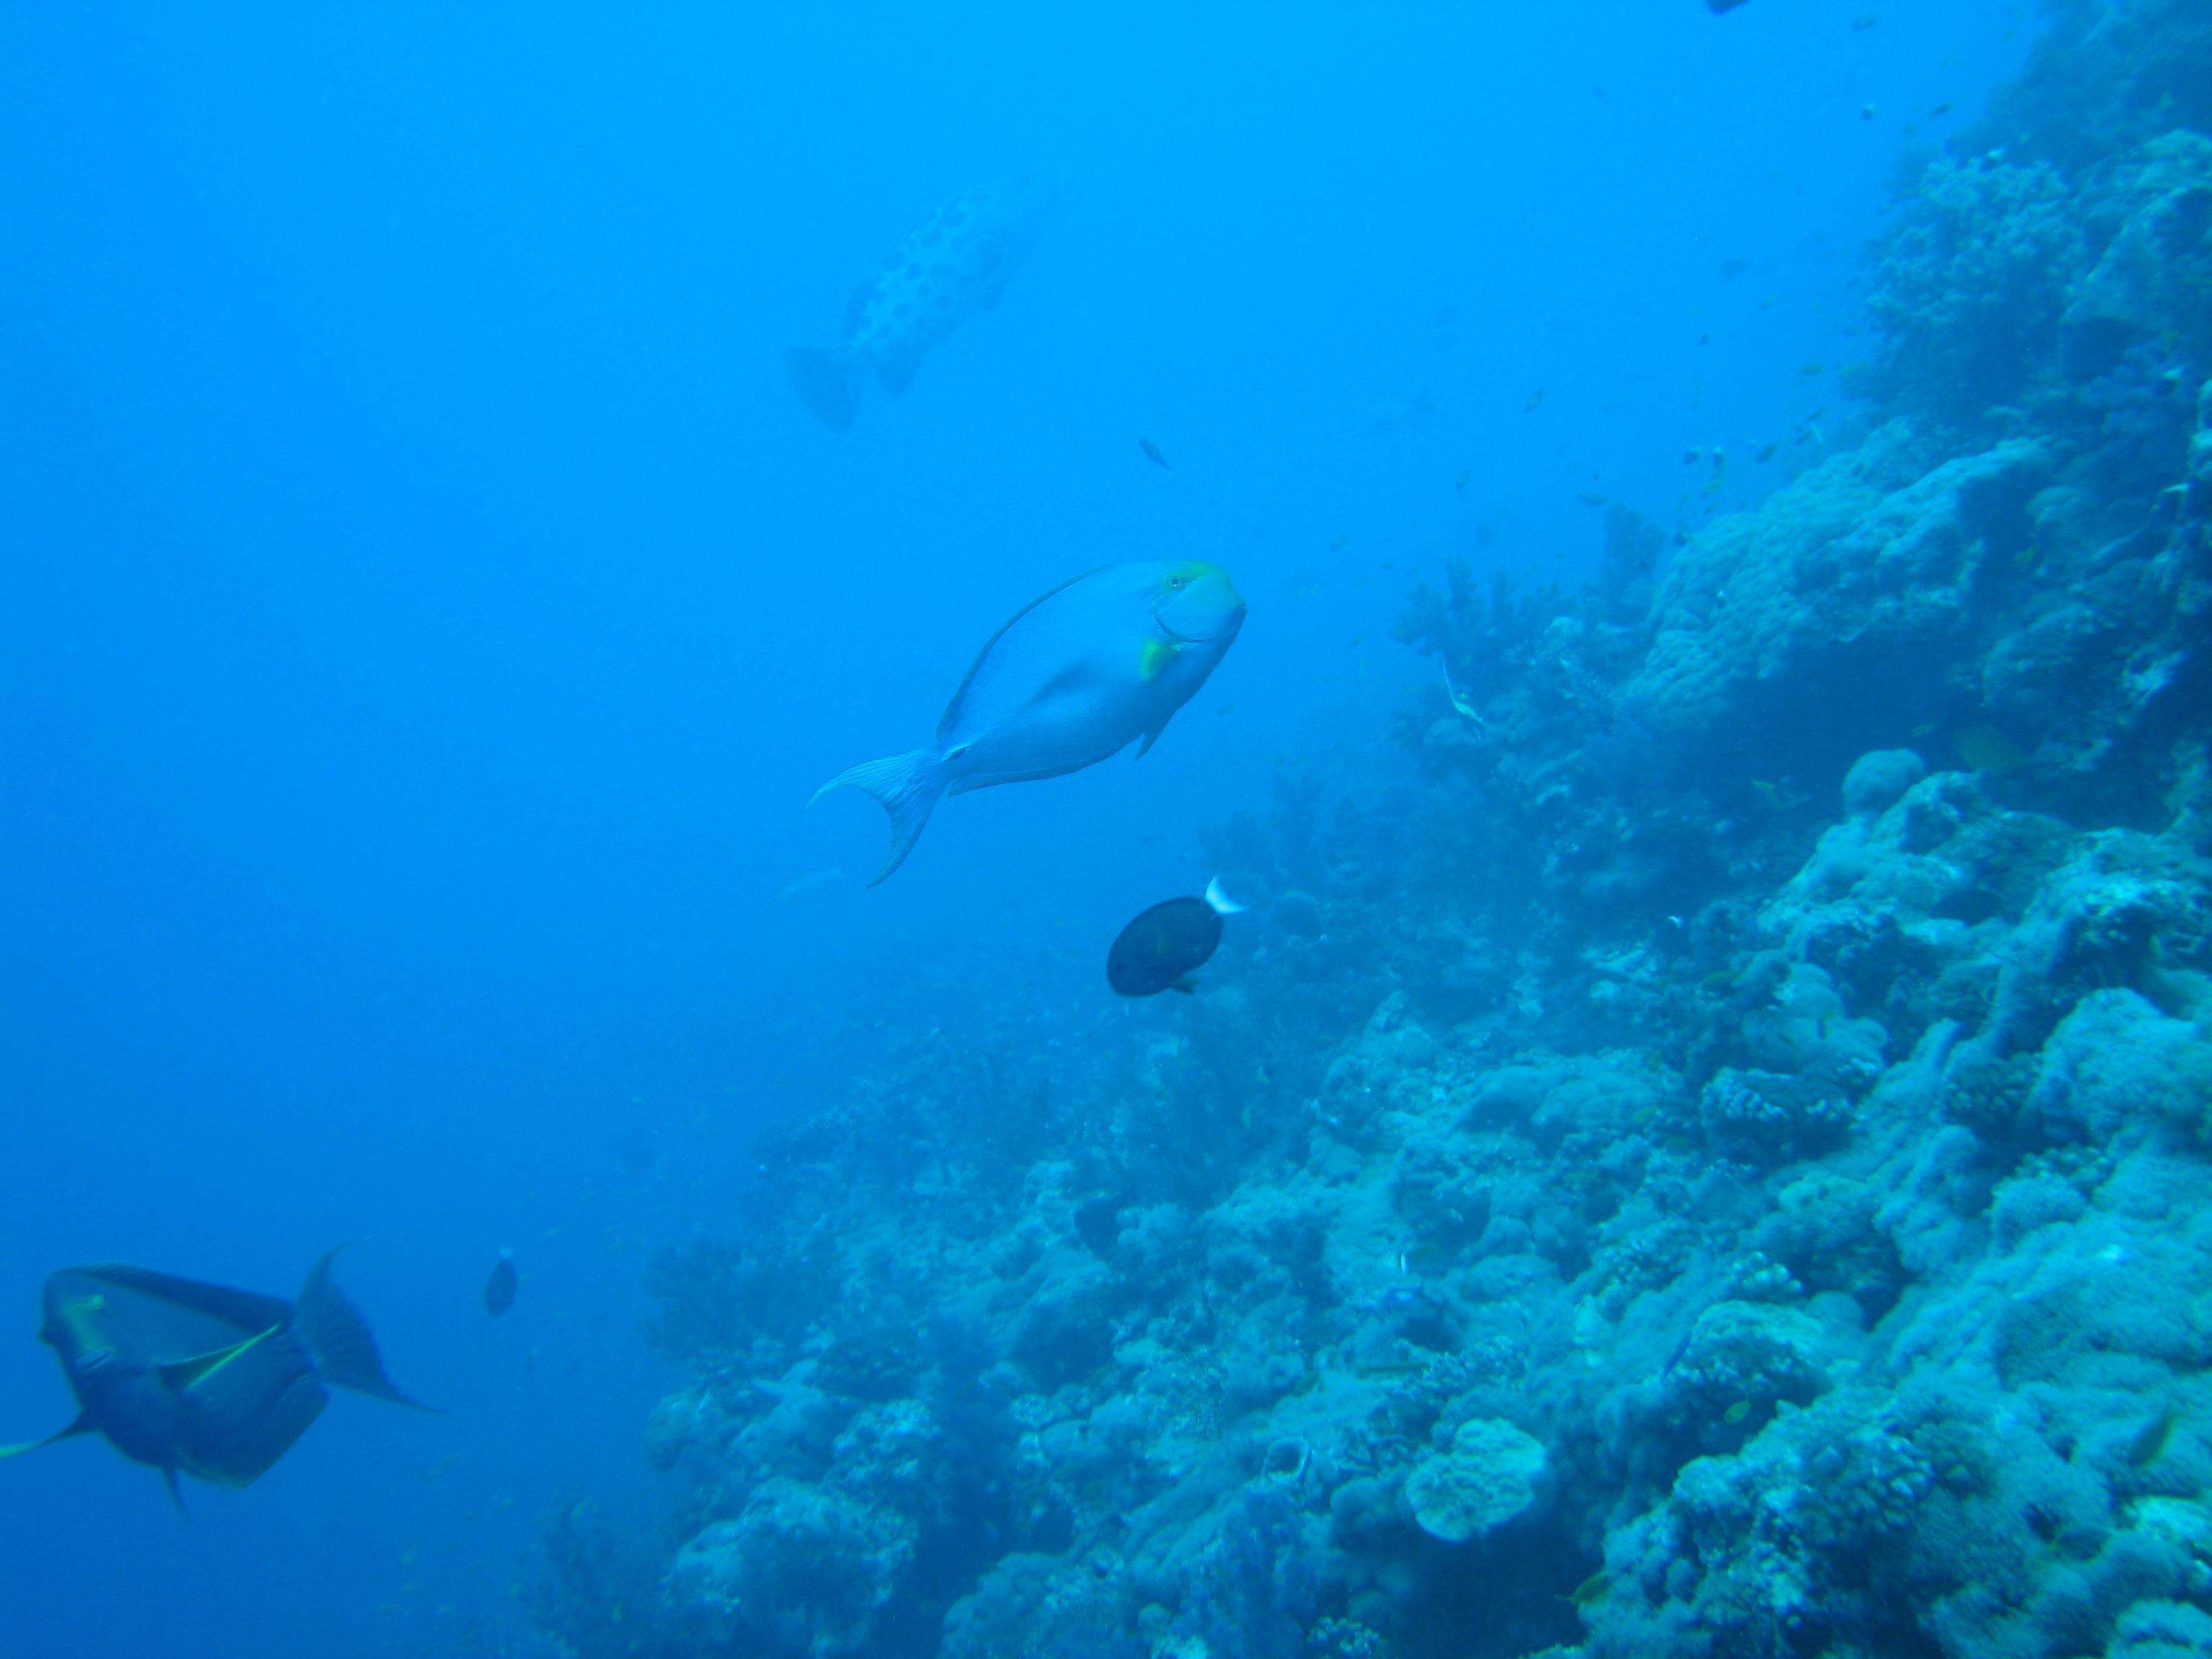Acanthurus dussumieri: (806, 540, 1289, 882)
